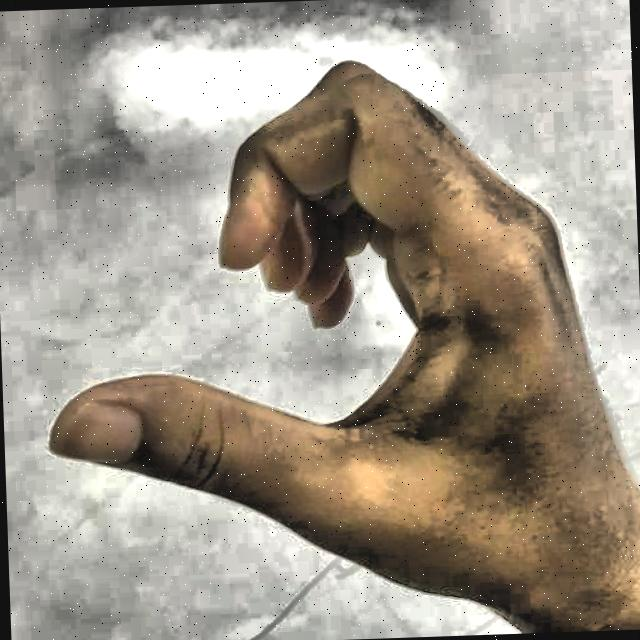Kha: (19, 16, 627, 626)
